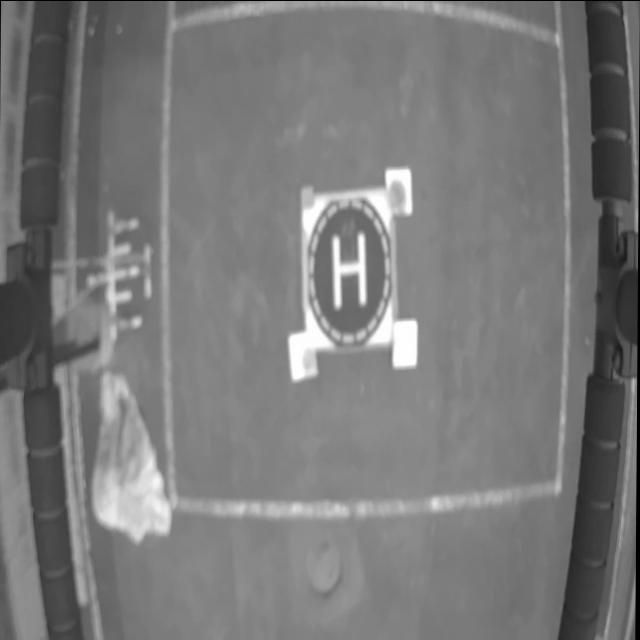Helipad: (331, 230, 368, 308)
